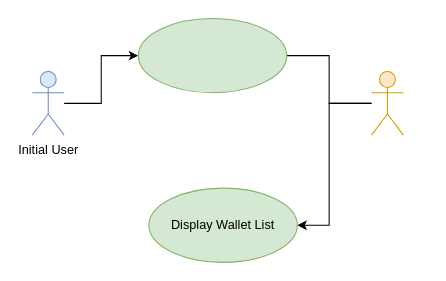
Some shapes in this 446 by 281 pixel diagram are drawn without their labels. Each missing label, with the box of its shape:
<<MegaTon>>: (370, 70, 403, 135)
Set Master Password: (137, 17, 287, 93)
